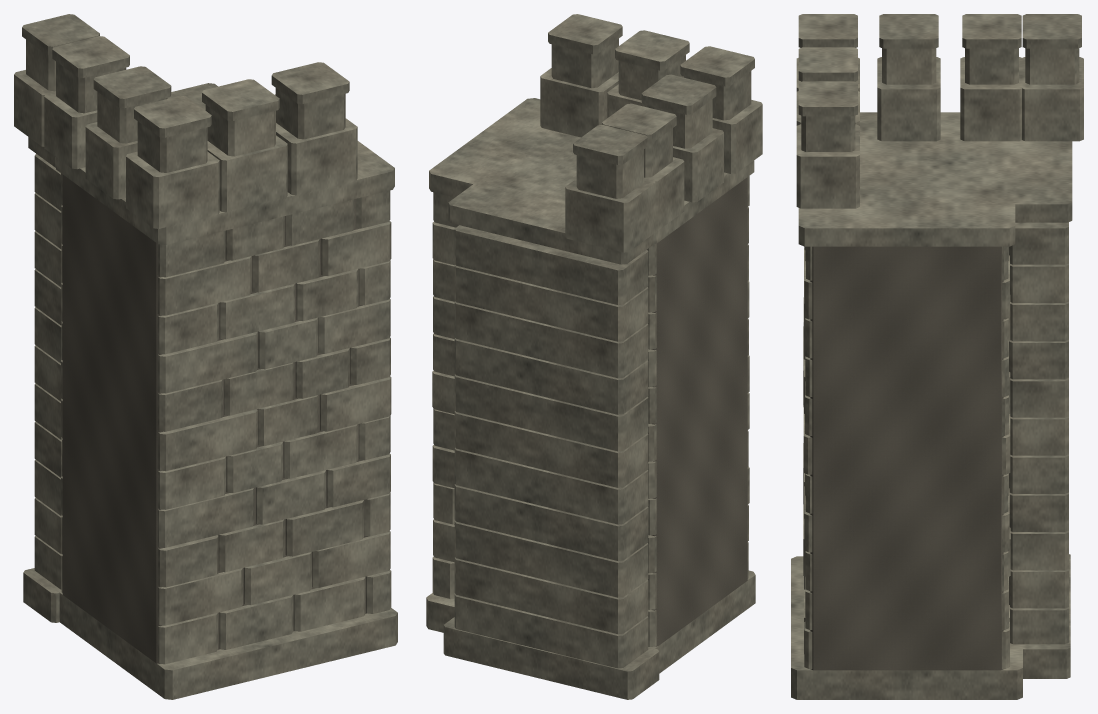
Rendered from stone_wall_corner.glb.
3 renders of one model, left to right at view 1: azimuth 30°, elevation 25°; view 2: azimuth 150°, elevation 25°; view 3: azimuth 270°, elevation 25°, orthographic. The views are drawn at different scales.
Visible parts, largest first — view 1: Stone Wall Corner; view 2: Stone Wall Corner; view 3: Stone Wall Corner.
Part boxes in pixels (x1,y1,x2,y2): Stone Wall Corner: (14,14,397,699); Stone Wall Corner: (426,14,762,699); Stone Wall Corner: (791,14,1083,699).
Size of the model in its own units: 2.75 by 6.16 by 2.87.
Materials: 2 (2 with a texture image).
